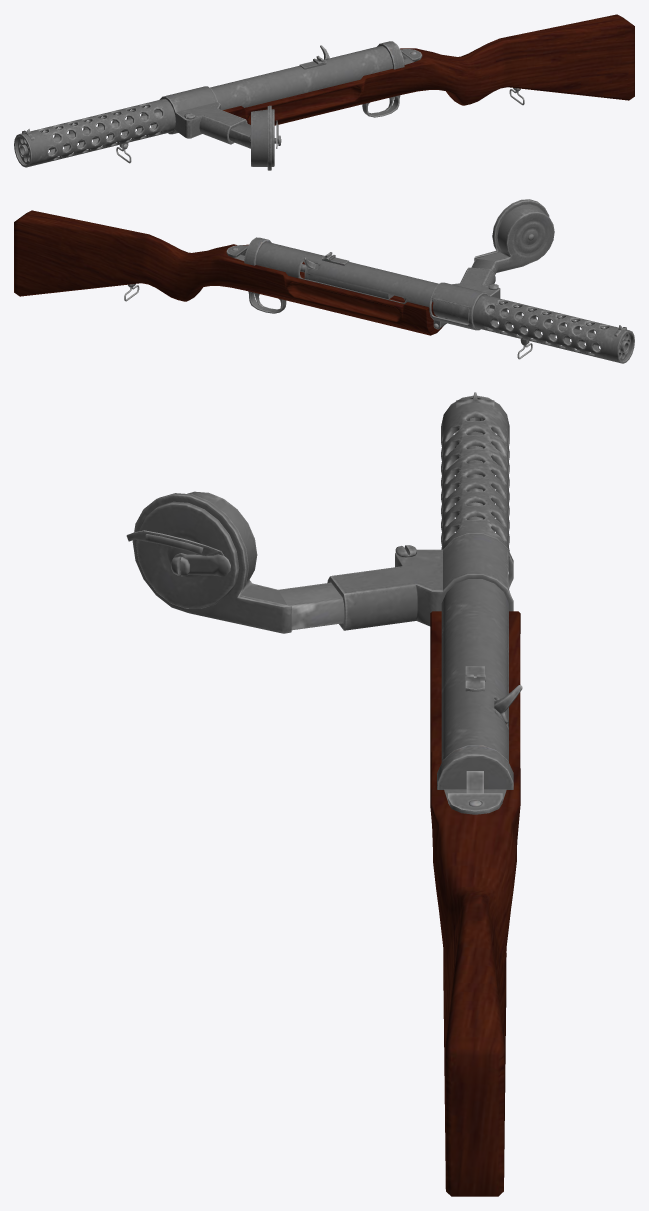
3 renders of one model, top to bottom at view 1: azimuth 30°, elevation 25°; view 2: azimuth 150°, elevation 25°; view 3: azimuth 270°, elevation 25°, orthographic. The views are drawn at different scales.
Parts seen in each view (by area): view 1: Gun_Handle_Low_01, Gun_Barrel_Back_Low_01, Gun_Barrel_Low_01, Gun_Central_Section_Low_01, Drum_Clip_Low_01, Gun_Barrel_Inner_Tube_Low_01, Trigger_Low_01, Gun_Barrel_Front_Low_01; view 2: Gun_Handle_Low_01, Gun_Barrel_Low_01, Gun_Barrel_Back_Low_01, Drum_Clip_Low_01, Gun_Central_Section_Low_01, Inner_Barrel_Low_01, Vent_Low_01, Gun_Barrel_Inner_Tube_Low_01, Trigger_Low_01; view 3: Gun_Handle_Low_01, Drum_Clip_Low_01, Gun_Barrel_Back_Low_01, Gun_Central_Section_Low_01, Gun_Barrel_Low_01.
Part boxes in pixels (left/top/right/bottom): Gun_Handle_Low_01: left=223, top=14, right=634, bottom=125; Gun_Barrel_Back_Low_01: left=210, top=41, right=404, bottom=110; Gun_Barrel_Low_01: left=14, top=99, right=175, bottom=167; Gun_Central_Section_Low_01: left=159, top=86, right=247, bottom=144; Drum_Clip_Low_01: left=229, top=105, right=274, bottom=170; Gun_Barrel_Inner_Tube_Low_01: left=49, top=111, right=161, bottom=149; Trigger_Low_01: left=362, top=95, right=400, bottom=117; Gun_Barrel_Front_Low_01: left=18, top=136, right=29, bottom=164; Gun_Handle_Low_01: left=14, top=210, right=443, bottom=335; Gun_Barrel_Low_01: left=473, top=295, right=634, bottom=363; Gun_Barrel_Back_Low_01: left=244, top=237, right=438, bottom=316; Drum_Clip_Low_01: left=471, top=199, right=554, bottom=274; Gun_Central_Section_Low_01: left=429, top=267, right=500, bottom=330; Inner_Barrel_Low_01: left=304, top=257, right=393, bottom=299; Vent_Low_01: left=433, top=299, right=474, bottom=323; Gun_Barrel_Inner_Tube_Low_01: left=487, top=307, right=599, bottom=346; Trigger_Low_01: left=248, top=291, right=286, bottom=313; Gun_Handle_Low_01: left=430, top=611, right=520, bottom=1196; Drum_Clip_Low_01: left=132, top=491, right=344, bottom=633; Gun_Barrel_Back_Low_01: left=437, top=579, right=513, bottom=789; Gun_Central_Section_Low_01: left=327, top=533, right=513, bottom=630; Gun_Barrel_Low_01: left=441, top=395, right=509, bottom=571.
Bounding box in the file's own units: 81.61 × 18.44 × 23.08.
Materials: 1 (1 with a texture image).
